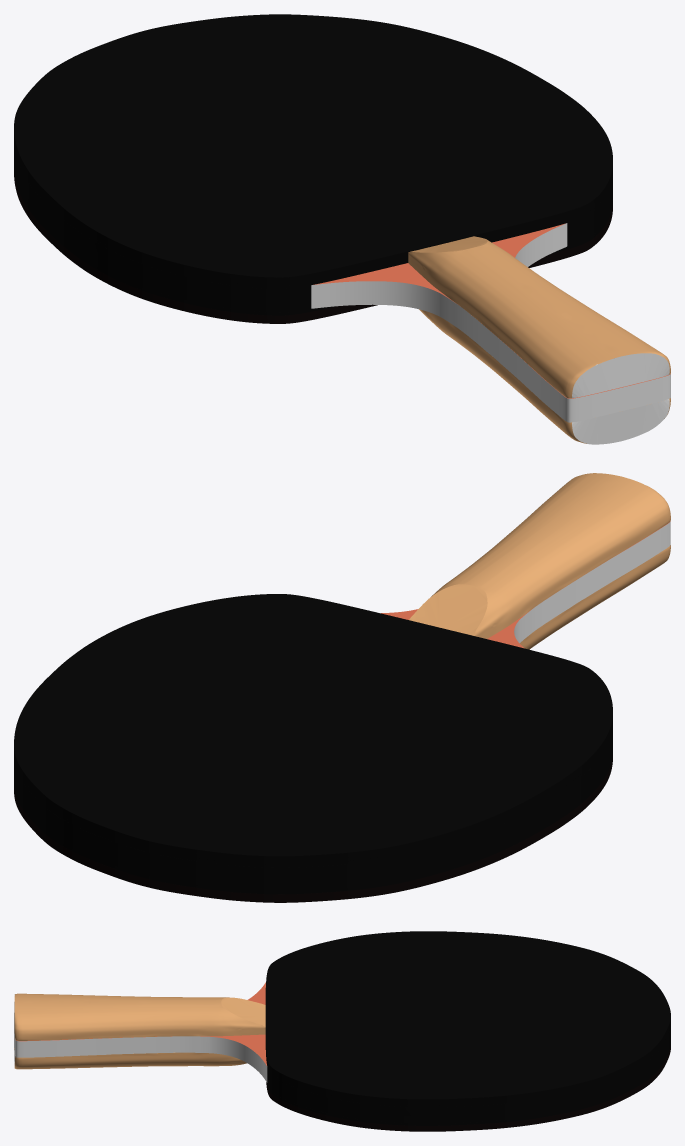
File: racket-1.glb
3 views of the same model, one above another, from view 1: azimuth 30°, elevation 25°; view 2: azimuth 150°, elevation 25°; view 3: azimuth 270°, elevation 25° (orthographic). The views are drawn at different scales.
Visible parts, largest first — view 1: head-layer_red2.000_Plane.002, handle1.001_Plane.009, handle.001_Plane.029, head-wood.000_Plane.001, handle1.000_Plane.022, head-layer_red2.001_Plane.023, head-layer_red2.002_Plane.024, head-layer_red2.003_Plane.025; view 2: head-layer_red2.000_Plane.002, handle1.001_Plane.009, head-wood.000_Plane.001, head-layer_red2.001_Plane.023, handle.001_Plane.029, head-layer_red2.002_Plane.024, head-layer_red2.003_Plane.025, handle1.000_Plane.022; view 3: head-layer_red2.000_Plane.002, handle1.001_Plane.009, head-wood.000_Plane.001, handle.001_Plane.029, handle1.000_Plane.022, head-layer_red2.001_Plane.023, head-layer_red2.003_Plane.025, head-layer_red2.002_Plane.024.
Boxes of the visible parts, box(x1,y1,x2,y2) form: head-layer_red2.000_Plane.002: box(14, 14, 612, 285); handle1.001_Plane.009: box(408, 236, 670, 398); handle.001_Plane.029: box(311, 223, 670, 422); head-wood.000_Plane.001: box(14, 142, 612, 312); handle1.000_Plane.022: box(419, 309, 670, 444); head-layer_red2.001_Plane.023: box(14, 169, 612, 323); head-layer_red2.002_Plane.024: box(14, 139, 612, 288); head-layer_red2.003_Plane.025: box(14, 167, 612, 315); head-layer_red2.000_Plane.002: box(14, 594, 612, 864); handle1.001_Plane.009: box(409, 473, 670, 638); head-wood.000_Plane.001: box(14, 727, 612, 891); head-layer_red2.001_Plane.023: box(14, 754, 612, 902); handle.001_Plane.029: box(381, 521, 670, 648); head-layer_red2.002_Plane.024: box(14, 724, 612, 867); head-layer_red2.003_Plane.025: box(14, 750, 612, 894); handle1.000_Plane.022: box(520, 545, 670, 649); head-layer_red2.000_Plane.002: box(265, 931, 670, 1105); handle1.001_Plane.009: box(14, 993, 265, 1040); head-wood.000_Plane.001: box(267, 1026, 670, 1123); handle.001_Plane.029: box(14, 982, 267, 1082); handle1.000_Plane.022: box(14, 1048, 246, 1069); head-layer_red2.001_Plane.023: box(266, 1044, 670, 1131); head-layer_red2.003_Plane.025: box(267, 1042, 670, 1125); head-layer_red2.002_Plane.024: box(265, 1023, 670, 1107).
Size of the model in its own units: 0.1537 by 0.0252 by 0.2541.
